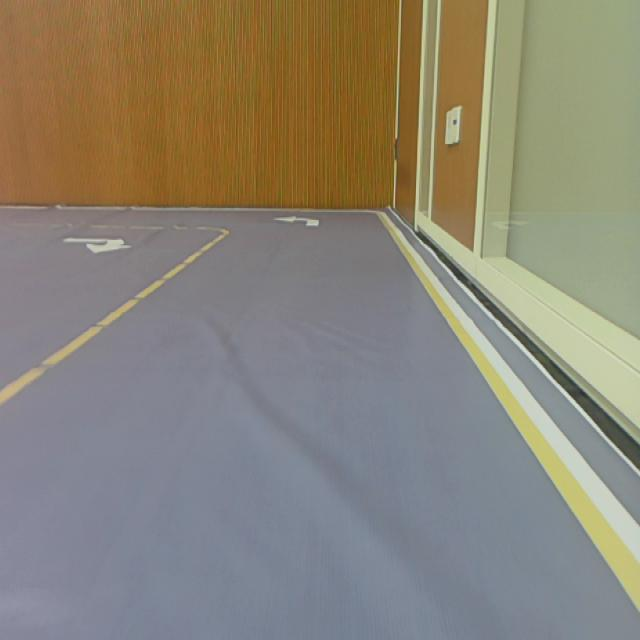left_lane: (0, 235, 230, 409)
right_lane: (376, 209, 640, 616)
